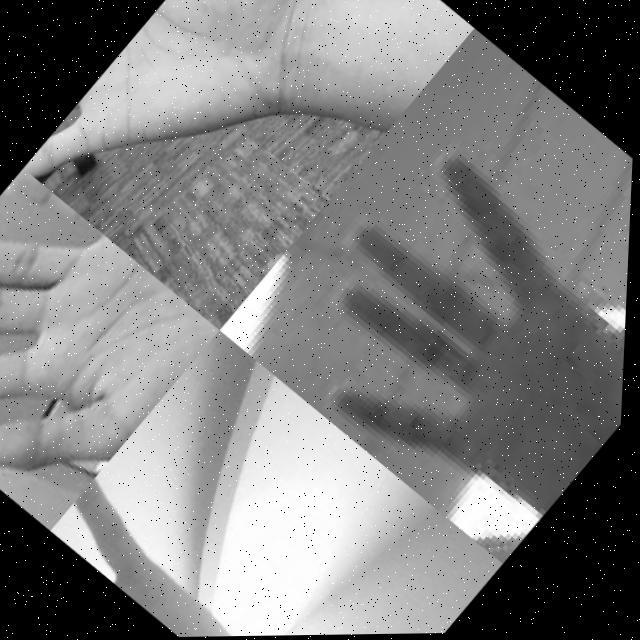no-gloves: (243, 46, 638, 562), (22, 0, 373, 266), (0, 165, 229, 532), (50, 470, 312, 639)
